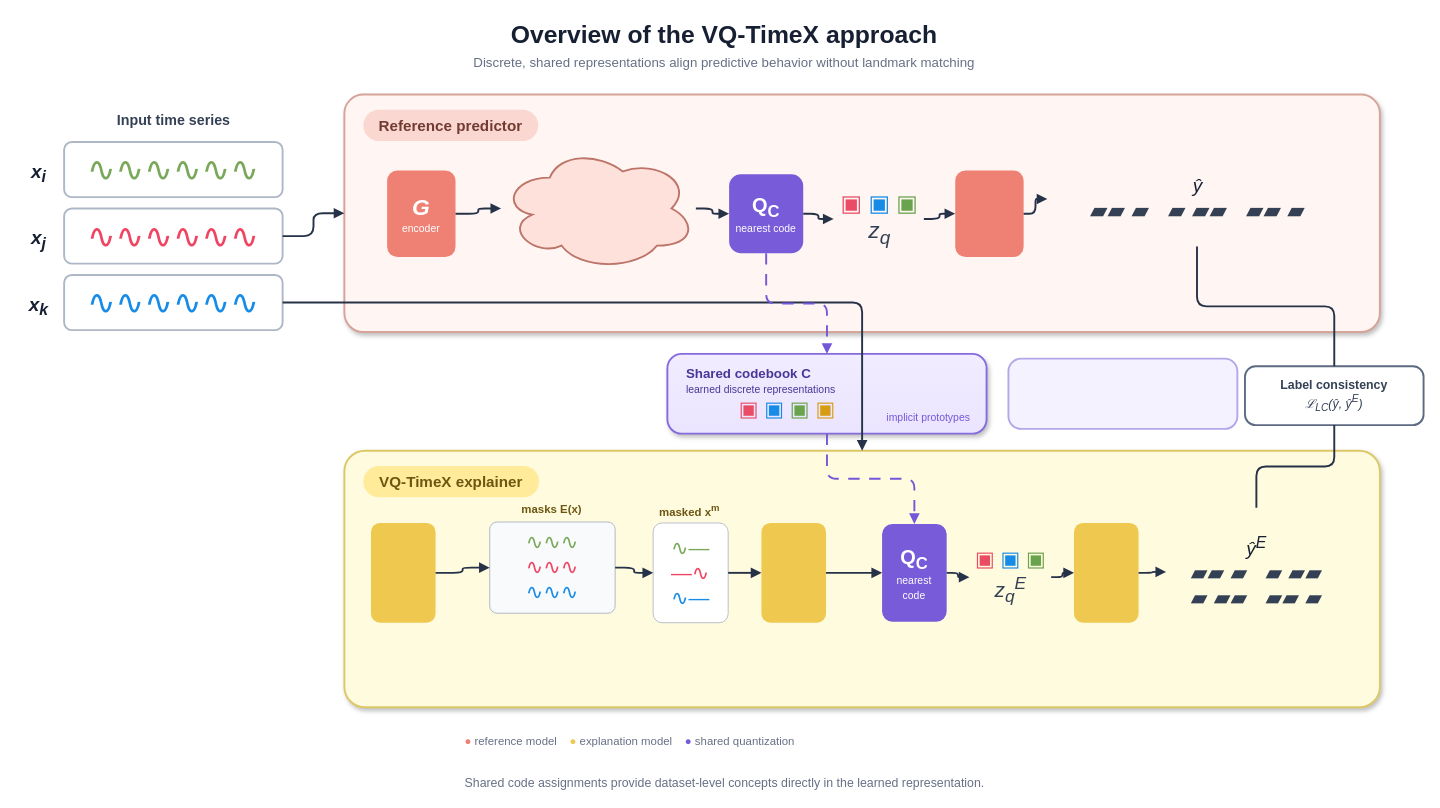
Some shapes in this 1440 by 808 pixel diagram are drawn without their labels. The centre of each missing label's shape, as x and y in pixels:
Alignment is built into the representation No landmarks · No MBC objectives: the point at 1122,393
continuous latent space ● z i ● z j ● z k: the point at 598,208
F classifier: the point at 989,213
F E surrogate classifier: the point at 1106,572
G E explanation encoder: the point at 793,572
H E mask generator: the point at 402,572
